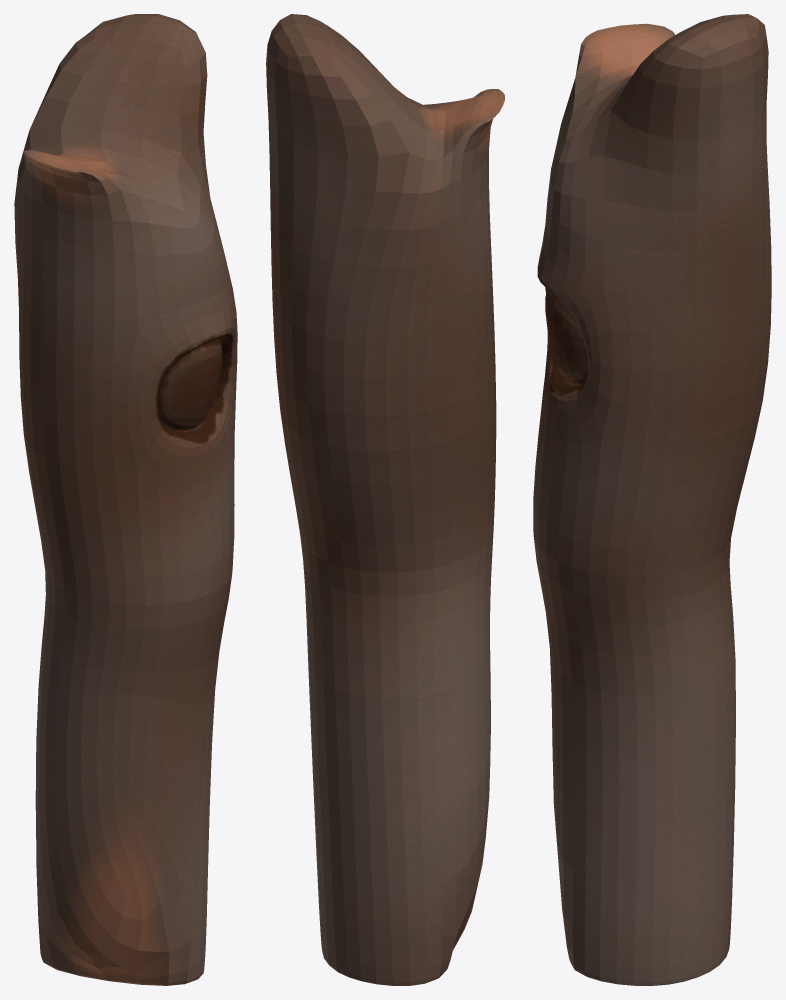
Rendered from wood.fbx.
3 views of the same model, side by side, from view 1: azimuth 30°, elevation 25°; view 2: azimuth 150°, elevation 25°; view 3: azimuth 270°, elevation 25° (orthographic). The views are drawn at different scales.
Parts seen in each view (by area): view 1: node_id4; view 2: node_id4; view 3: node_id4.
Part boxes in pixels (left/top/right/bottom): node_id4: left=14, top=14, right=237, bottom=985; node_id4: left=266, top=14, right=504, bottom=985; node_id4: left=533, top=14, right=771, bottom=985.
Size of the model in its own units: 0.1138 by 0.511 by 0.1144.
1 material, 1 textured.
